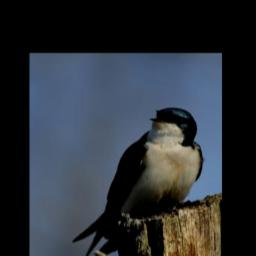Swallow: (72, 107, 203, 256)
